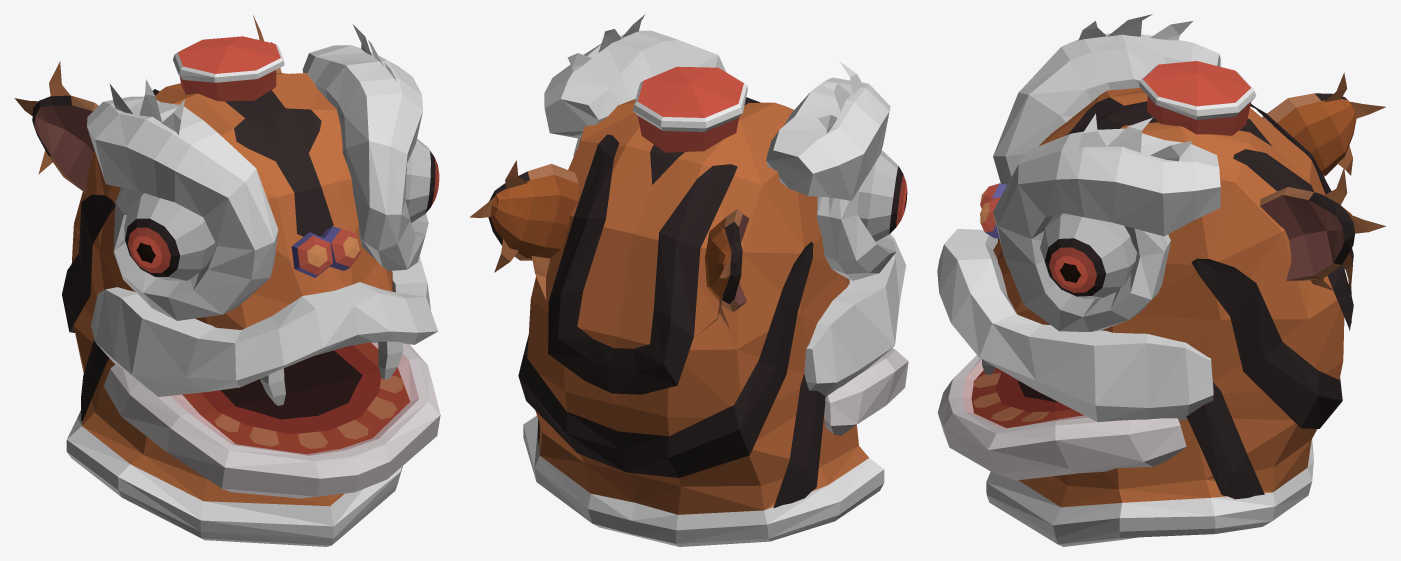
Rendered from chineseNewYearTigerHatFemale.glb.
3 views of the same model, side by side, from view 1: azimuth 30°, elevation 25°; view 2: azimuth 150°, elevation 25°; view 3: azimuth 270°, elevation 25° (orthographic). The views are drawn at different scales.
Parts seen in each view (by area): view 1: chineseNewYearTigerHat; view 2: chineseNewYearTigerHat; view 3: chineseNewYearTigerHat.
Part boxes in pixels (box(x1,y1,x2,y2)): chineseNewYearTigerHat: box(14, 15, 440, 546); chineseNewYearTigerHat: box(470, 14, 908, 546); chineseNewYearTigerHat: box(937, 14, 1385, 546).
Bounding box in the file's own units: 0.3959 × 0.5392 × 0.4963.
